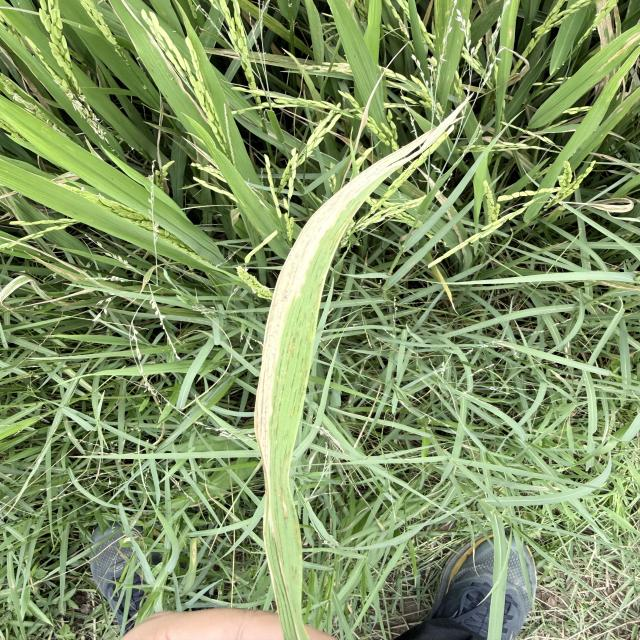Chay bia la: (250, 98, 470, 491)
